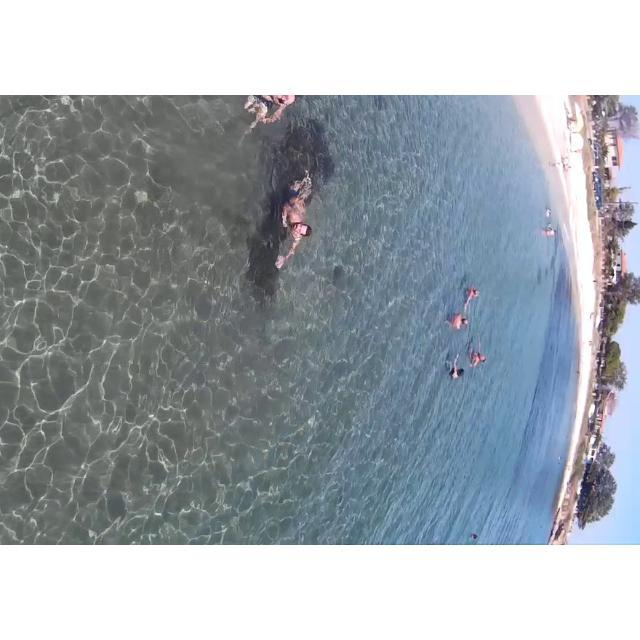human: (272, 149, 324, 301), (219, 95, 301, 163), (465, 336, 497, 384), (462, 272, 487, 322), (443, 346, 467, 390), (449, 305, 468, 337)
